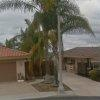Palm tree: (24, 0, 57, 82)
